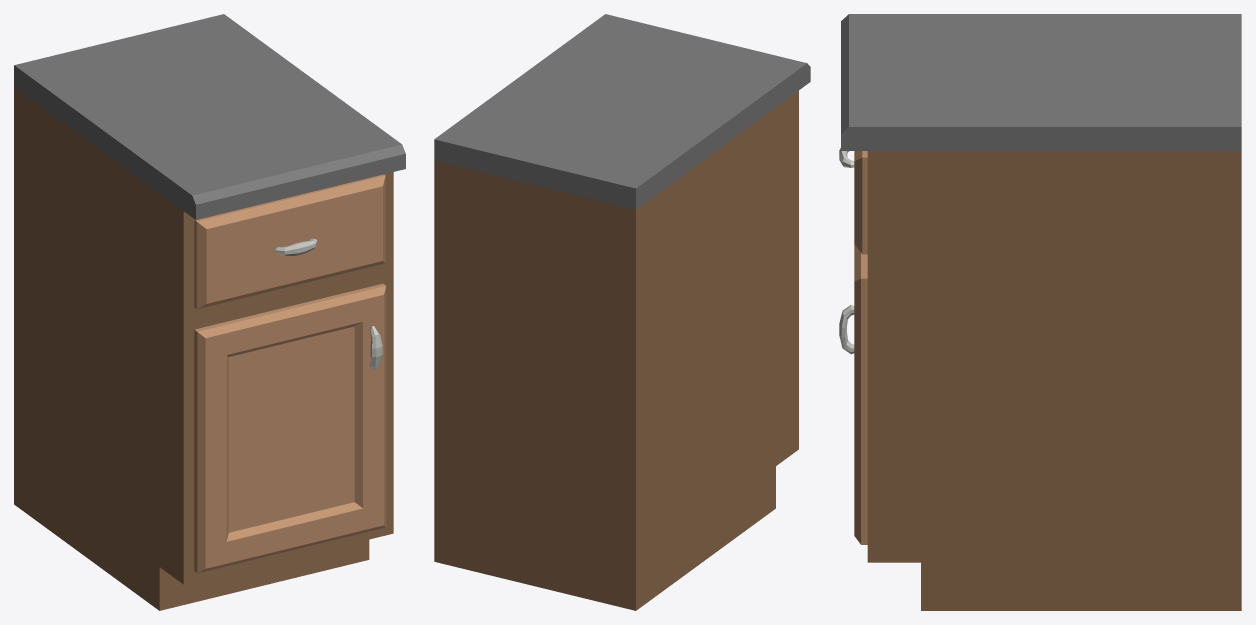
Rendered from Bathroom_Cabinet_Half.obj.
3 renders of one model, left to right at view 1: azimuth 30°, elevation 25°; view 2: azimuth 150°, elevation 25°; view 3: azimuth 270°, elevation 25°, orthographic. The views are drawn at different scales.
Parts seen in each view (by area): view 1: object2, object5, object1, object4; view 2: object2, object1; view 3: object2, object1, object5, object4.
Boxes of the visible parts, left/top/right/bottom form: object2: left=14, top=87, right=393, bottom=610; object5: left=194, top=283, right=386, bottom=573; object1: left=14, top=14, right=405, bottom=219; object4: left=194, top=174, right=385, bottom=309; object2: left=434, top=90, right=798, bottom=610; object1: left=434, top=14, right=810, bottom=209; object2: left=867, top=151, right=1241, bottom=610; object1: left=841, top=14, right=1241, bottom=150; object5: left=854, top=244, right=867, bottom=544; object4: left=839, top=148, right=867, bottom=254.
Bounding box in the file's own units: 0.5 × 1 × 0.7531.
